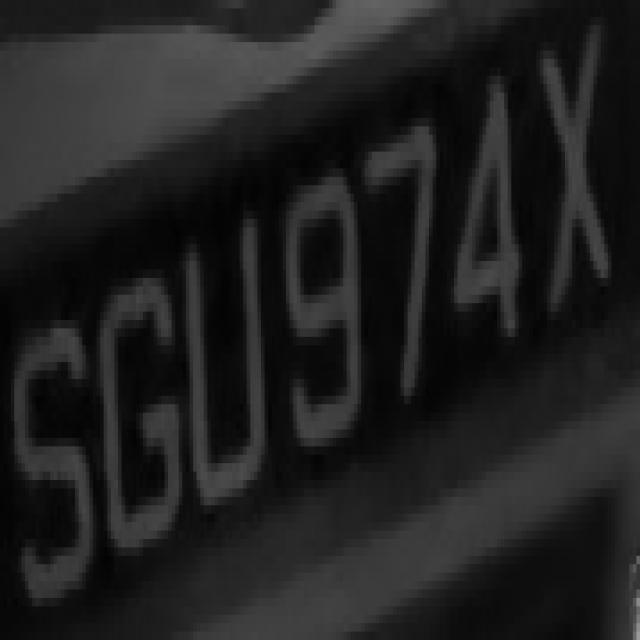4: (440, 59, 526, 362)
7: (358, 118, 440, 446)
9: (272, 135, 372, 497)
G: (96, 235, 178, 572)
S: (7, 261, 100, 590)
U: (172, 210, 272, 548)
X: (529, 0, 622, 320)
